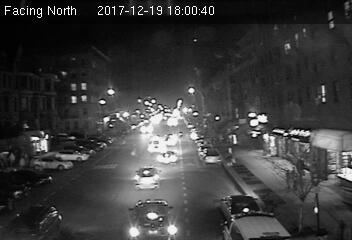car: (128, 199, 176, 239), (218, 195, 264, 220), (134, 166, 160, 190), (147, 137, 166, 153), (158, 150, 179, 163)
police: (218, 209, 306, 240)
